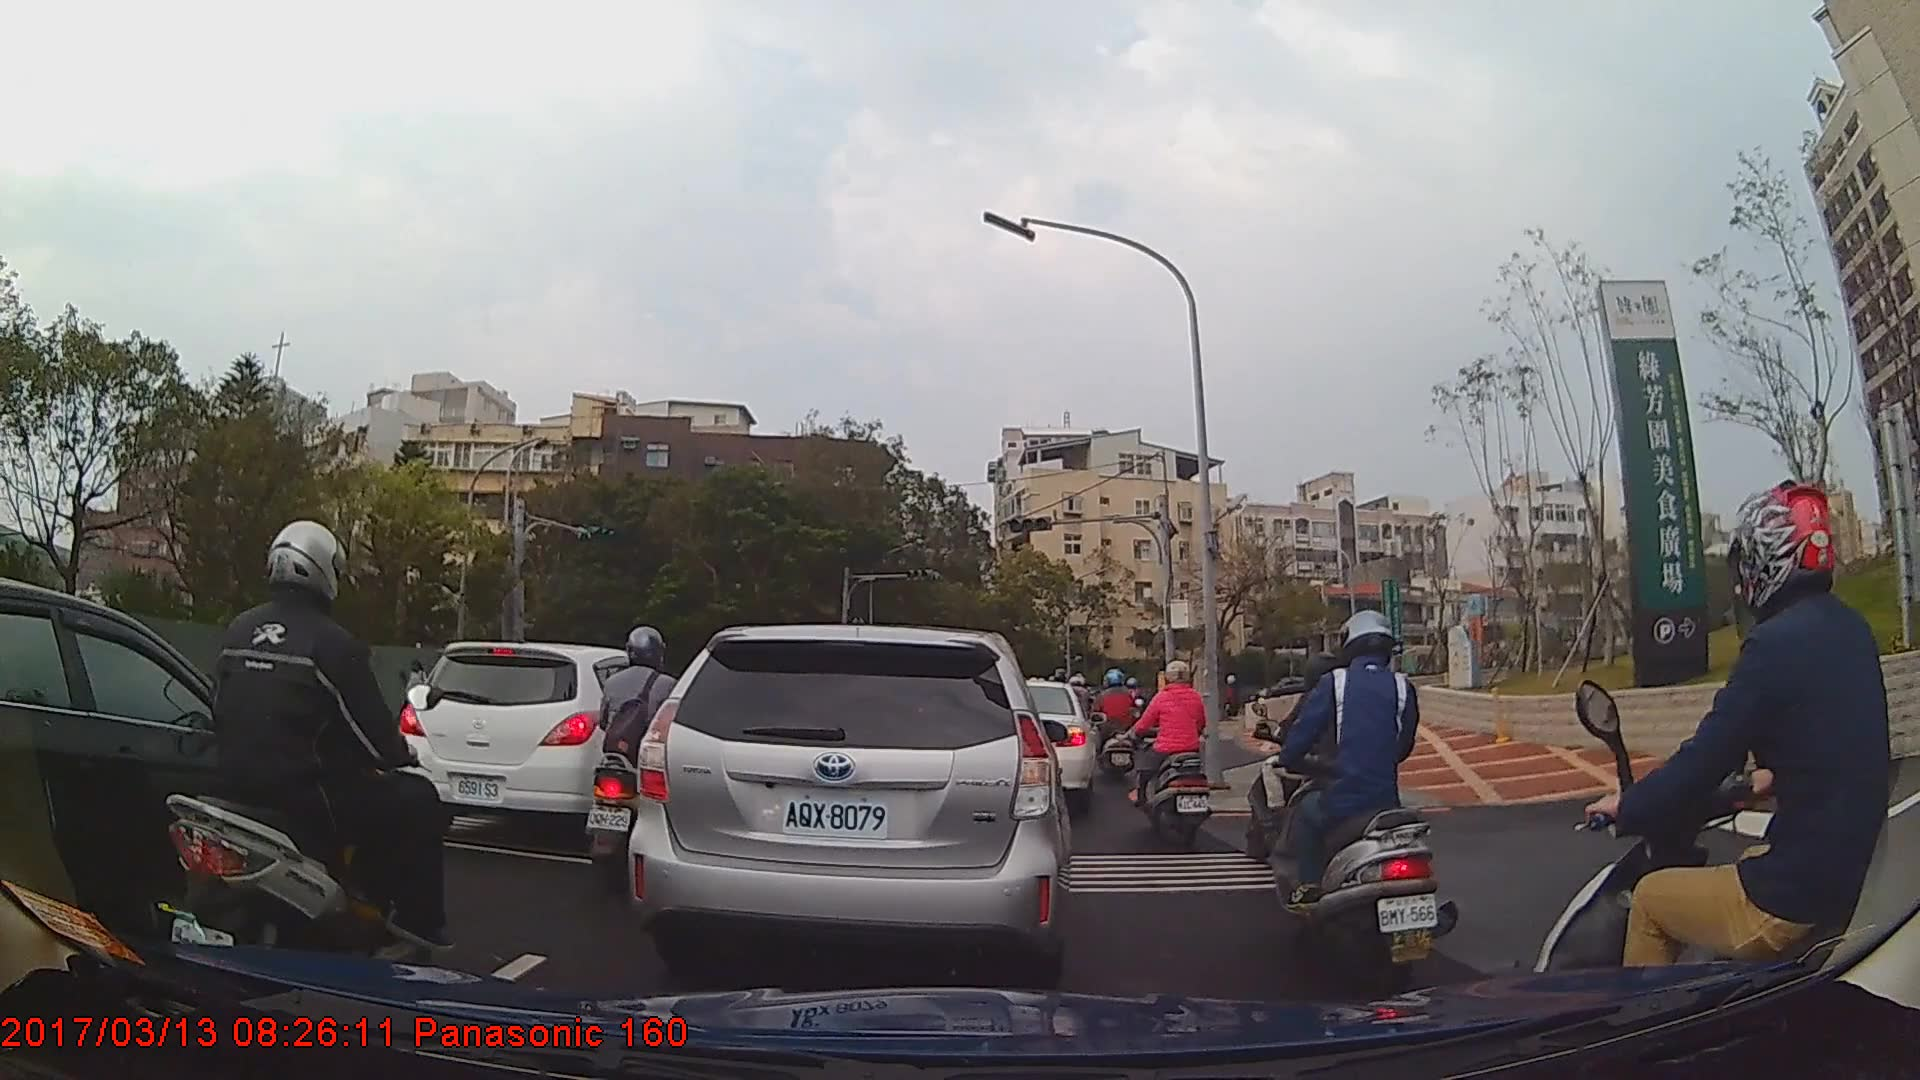pedestrian: (408, 660, 432, 727)
rider: (1532, 478, 1920, 1080), (169, 518, 454, 1019), (1258, 609, 1450, 1005), (586, 625, 697, 895), (1138, 663, 1211, 853), (1091, 667, 1142, 780)
vehicle: (624, 624, 1072, 981), (0, 573, 363, 942), (397, 634, 669, 848), (990, 679, 1096, 805)
